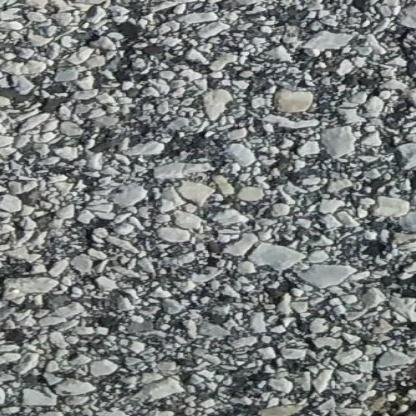Cracks: (349, 231, 416, 416)
